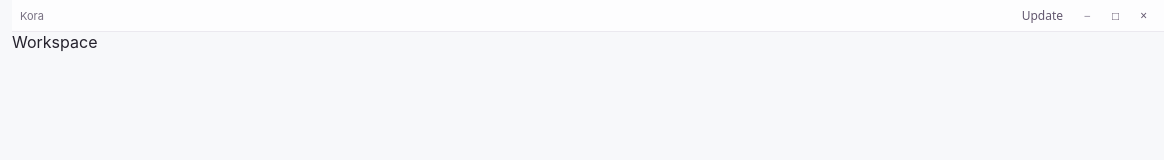
Test: maximizes and restores the workspace with an accessible window control
Click the button named "Maximize".
click(1116, 16)  # box [1103,5,1128,26]
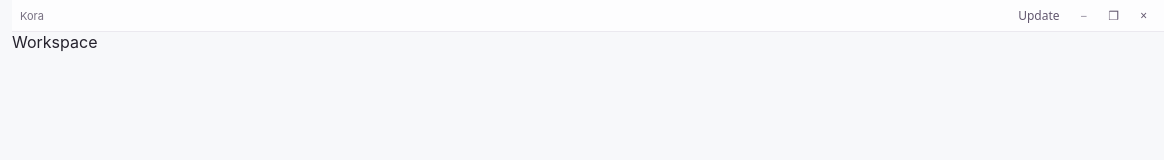
Expected: the button named "Restore" is shown
Click the button named "Restore".
click(1114, 16)  # box [1099,5,1128,26]
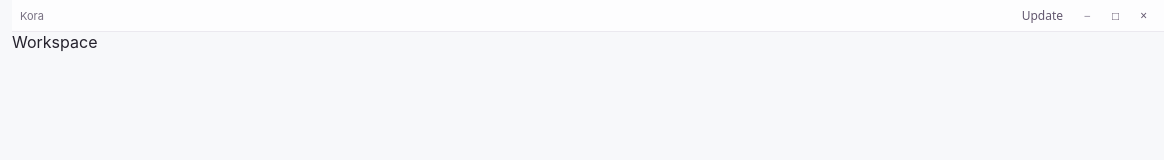
Expected: the button named "Maximize" is shown, [1103,5,1128,26]
